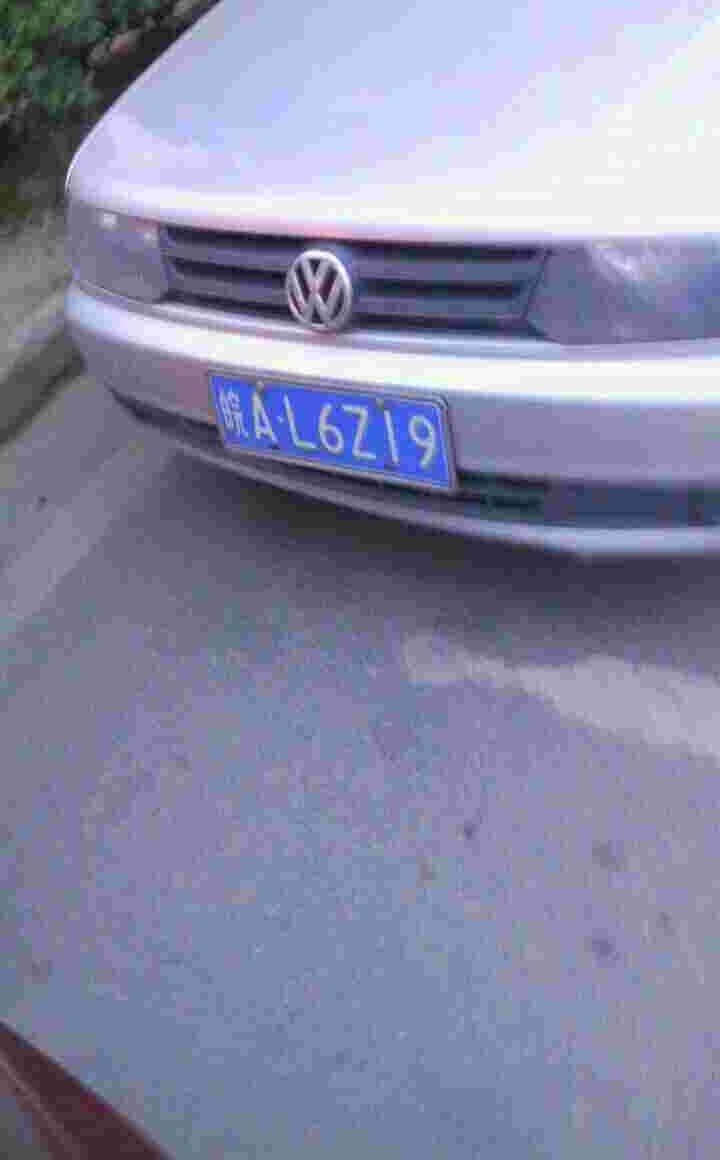license_plate: (218, 376, 454, 487)
